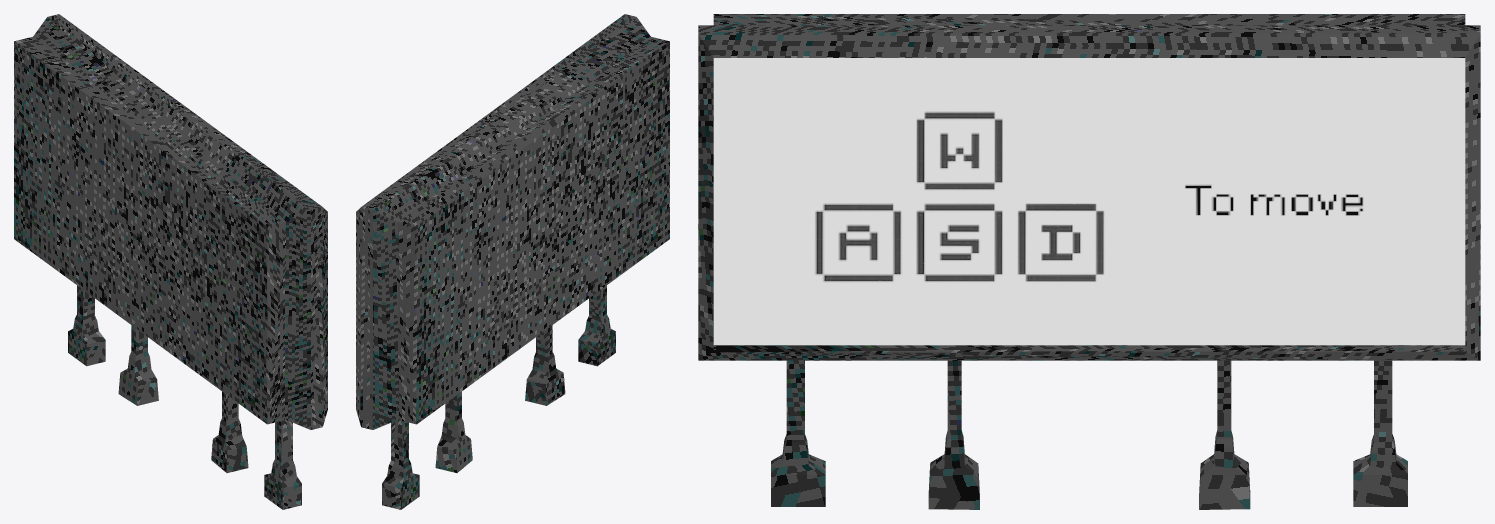
Rendered from wasd_billboard.glb.
3 renders of one model, left to right at view 1: azimuth 30°, elevation 25°; view 2: azimuth 150°, elevation 25°; view 3: azimuth 270°, elevation 25°, orthographic. The views are drawn at different scales.
Parts seen in each view (by area): view 1: wasd_board; view 2: wasd_board; view 3: wasd_board.
Boxes of the visible parts, left/top/right/bottom form: wasd_board: left=14, top=14, right=327, bottom=509; wasd_board: left=356, top=14, right=669, bottom=509; wasd_board: left=698, top=14, right=1480, bottom=509.
Bounding box in the file's own units: 2.1 × 10.56 × 15.84.
Materials: 2 (2 with a texture image).
